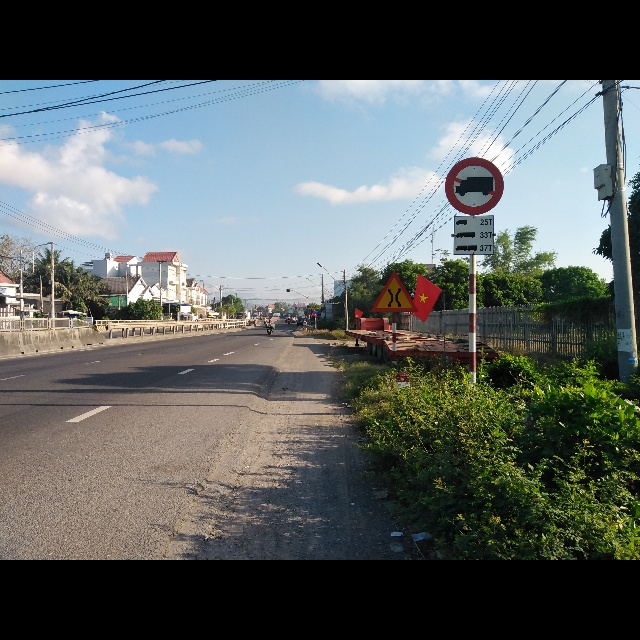Cấm xe tải: (444, 157, 505, 215)
Cầu hẹp: (371, 270, 417, 314)
